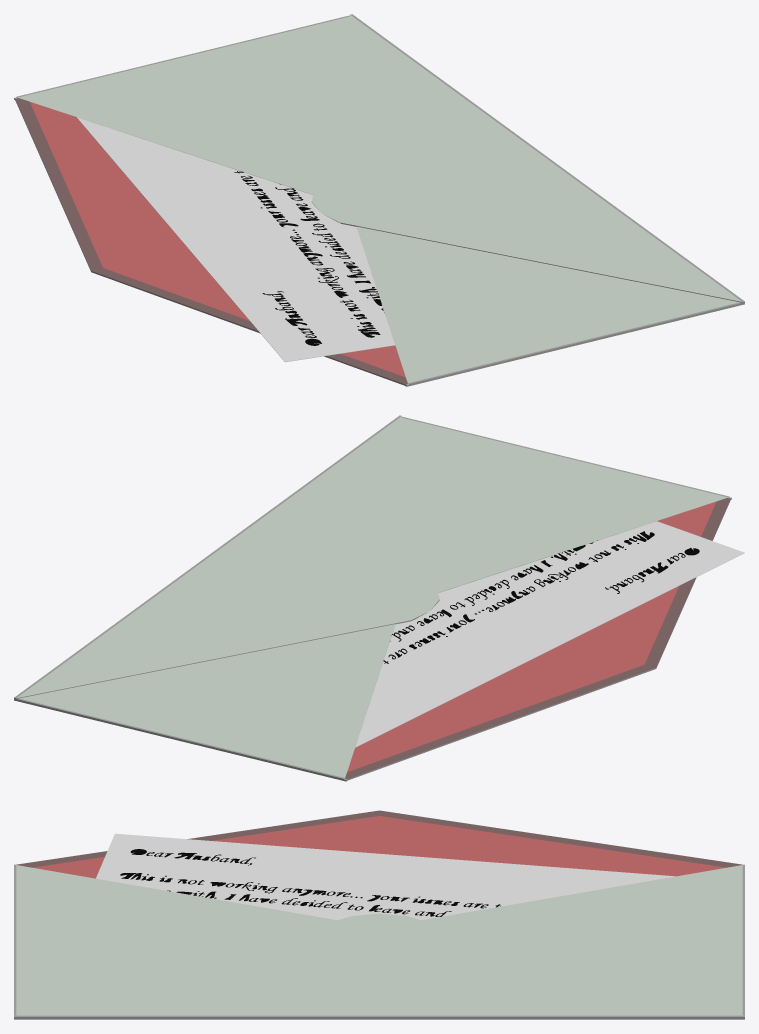
File: envelope.fbx
3 renders of one model, top to bottom at view 1: azimuth 30°, elevation 25°; view 2: azimuth 150°, elevation 25°; view 3: azimuth 270°, elevation 25°, orthographic. The views are drawn at different scales.
Visible parts, largest first — view 1: pCube3, pasted__typeMesh1; view 2: pCube3, pasted__typeMesh1; view 3: pCube3, pasted__typeMesh1.
Part boxes in pixels (x1=…): pCube3: x1=14, y1=14, x2=744, y2=386; pasted__typeMesh1: x1=76, y1=117, x2=395, y2=362; pCube3: x1=14, y1=415, x2=731, y2=781; pasted__typeMesh1: x1=355, y1=521, x2=744, y2=747; pCube3: x1=14, y1=810, x2=744, y2=1019; pasted__typeMesh1: x1=96, y1=833, x2=675, y2=920.
Size of the model in its own units: 9.56 by 0.0573 by 14.21.
